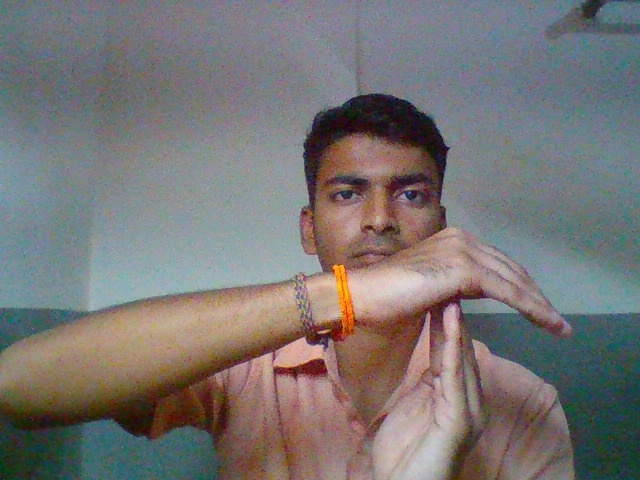J: (348, 217, 577, 480)
